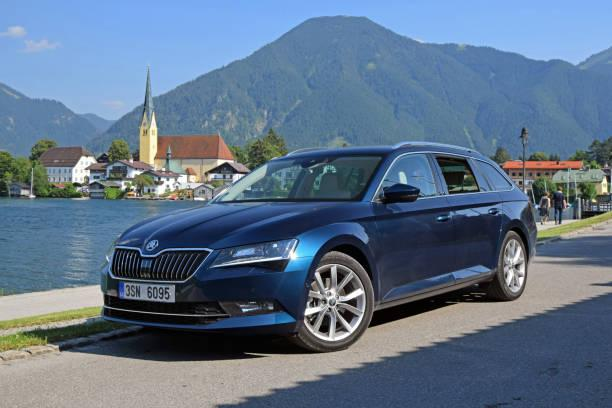skoda: (141, 236, 164, 256)
